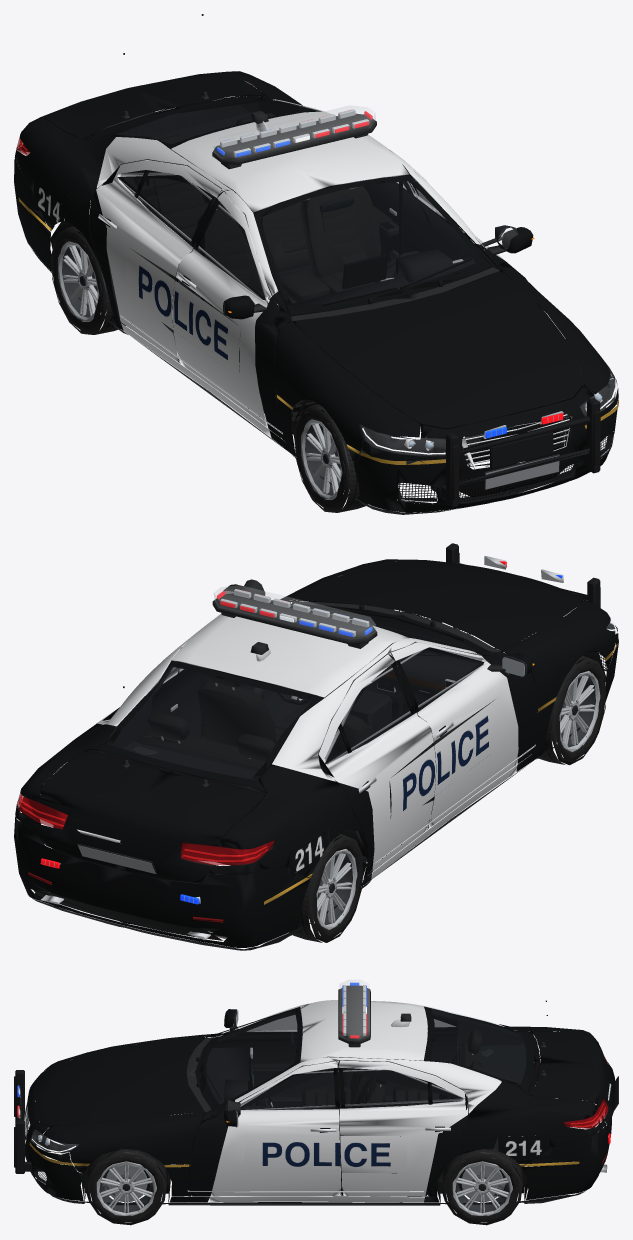
File: police-car.glb
3 renders of one model, top to bottom at view 1: azimuth 30°, elevation 25°; view 2: azimuth 150°, elevation 25°; view 3: azimuth 270°, elevation 25°, orthographic. The views are drawn at different scales.
Visible parts, largest first — view 1: Body, Wheel_FR, Wheel_RR; view 2: Body, Wheel_RR, Wheel_FR; view 3: Body, Wheel_RL, Wheel_FL.
Part boxes in pixels (x1=…): Body: x1=14, y1=14, x2=618, y2=514; Wheel_FR: x1=294, y1=403, x2=368, y2=512; Wheel_RR: x1=51, y1=226, x2=125, y2=334; Body: x1=14, y1=543, x2=618, y2=950; Wheel_RR: x1=289, y1=834, x2=363, y2=942; Wheel_FR: x1=533, y1=655, x2=606, y2=765; Body: x1=14, y1=979, x2=618, y2=1205; Wheel_RL: x1=442, y1=1149, x2=522, y2=1225; Wheel_FL: x1=86, y1=1149, x2=166, y2=1225.
Bounding box in the file's own units: 2.16 × 1.65 × 5.06.
Materials: 71 (14 with a texture image).
